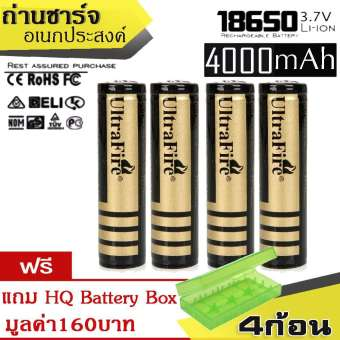Battery: (148, 77, 200, 270), (258, 80, 310, 272), (205, 78, 256, 273), (96, 78, 147, 270)
